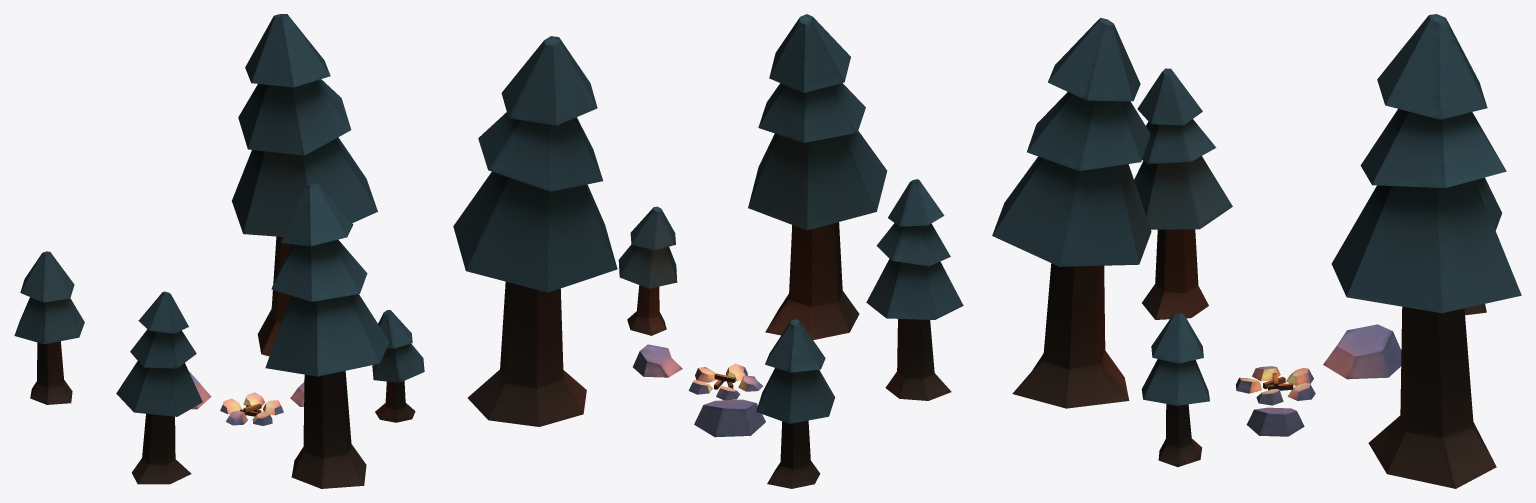
The model's file is tile_wood_2_lod0.fbx.
3 views of the same model, side by side, from view 1: azimuth 30°, elevation 25°; view 2: azimuth 150°, elevation 25°; view 3: azimuth 270°, elevation 25° (orthographic). The views are drawn at different scales.
Parts seen in each view (by area): view 1: wood_2_lod0; view 2: wood_2_lod0; view 3: wood_2_lod0.
Boxes of the visible parts, x1,y1,x2,y2 form: wood_2_lod0: [14, 14, 424, 488]; wood_2_lod0: [453, 14, 963, 488]; wood_2_lod0: [992, 14, 1521, 488].
Size of the model in its own units: 0.0496 by 0.0457 by 0.0511.
